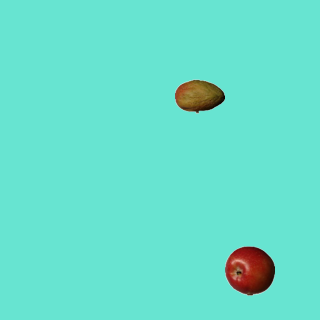Apple Braeburn: (224, 245, 274, 295)
Papaya: (174, 71, 224, 121)
